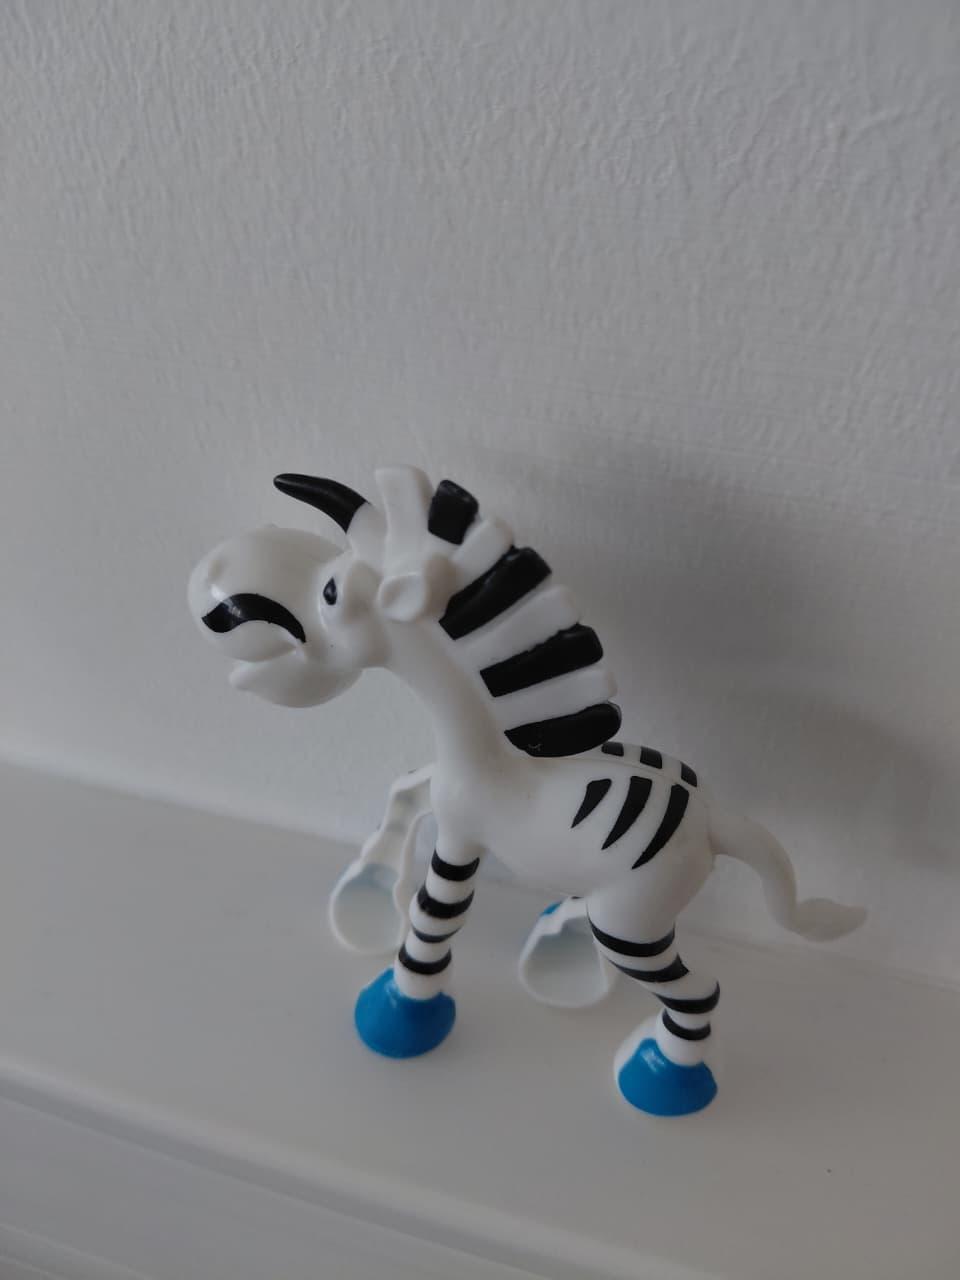zebra: (150, 445, 899, 1159)
